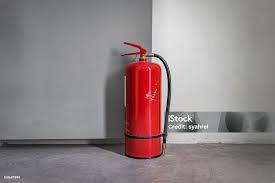floor-kept: (107, 33, 179, 166)
